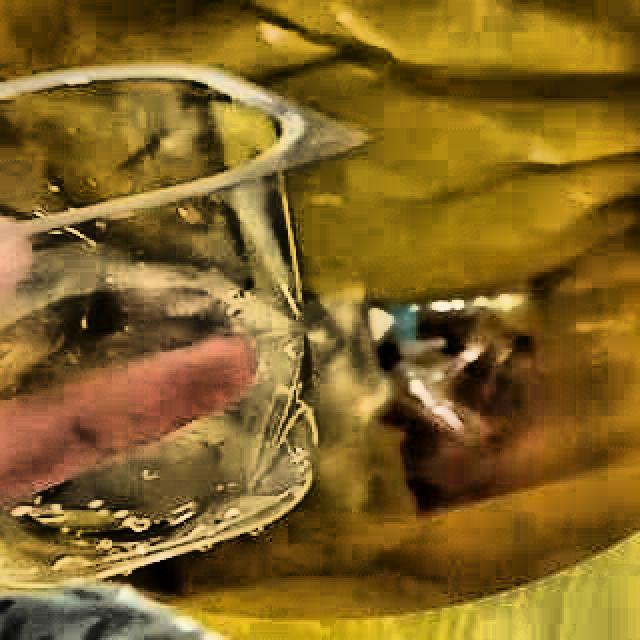plastic: (0, 66, 363, 587)
